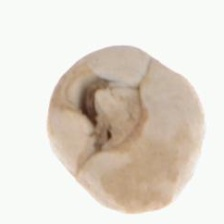L3: (76, 80, 144, 153)
L4: (47, 46, 205, 213)
